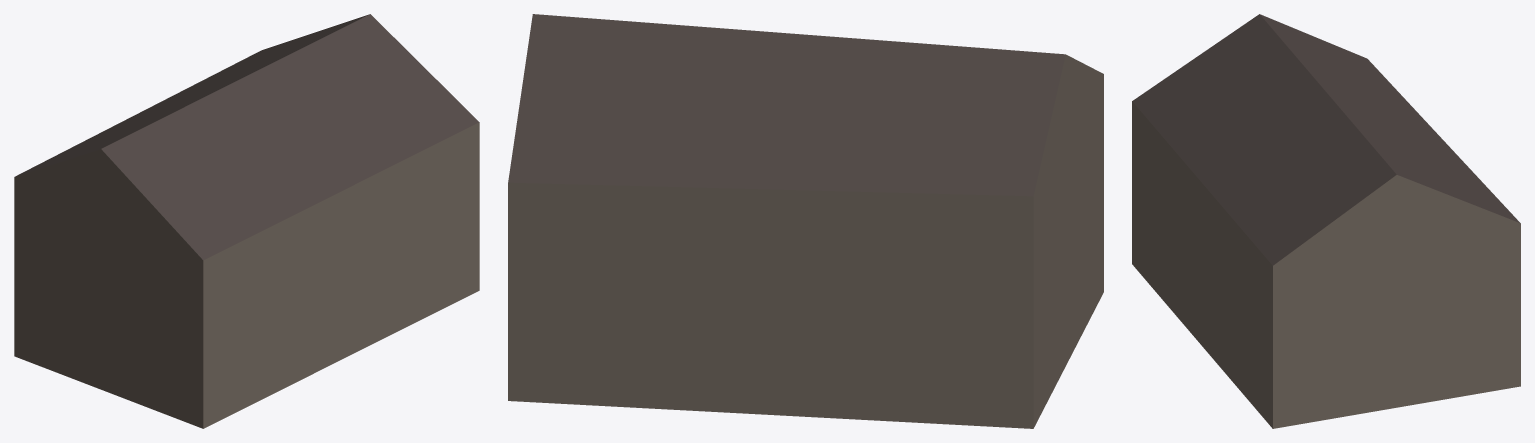
3 views of the same model, side by side, from view 1: azimuth 30°, elevation 25°; view 2: azimuth 150°, elevation 25°; view 3: azimuth 270°, elevation 25° (orthographic). The views are drawn at different scales.
Visible parts, largest first — view 1: HP-w1570583917; view 2: HP-w1570583917; view 3: HP-w1570583917.
Boxes of the visible parts, left/top/right/bottom form: HP-w1570583917: left=14, top=14, right=479, bottom=428; HP-w1570583917: left=508, top=14, right=1103, bottom=428; HP-w1570583917: left=1132, top=14, right=1520, bottom=428.
Size of the model in its own units: 23.27 by 12.86 by 19.45.
